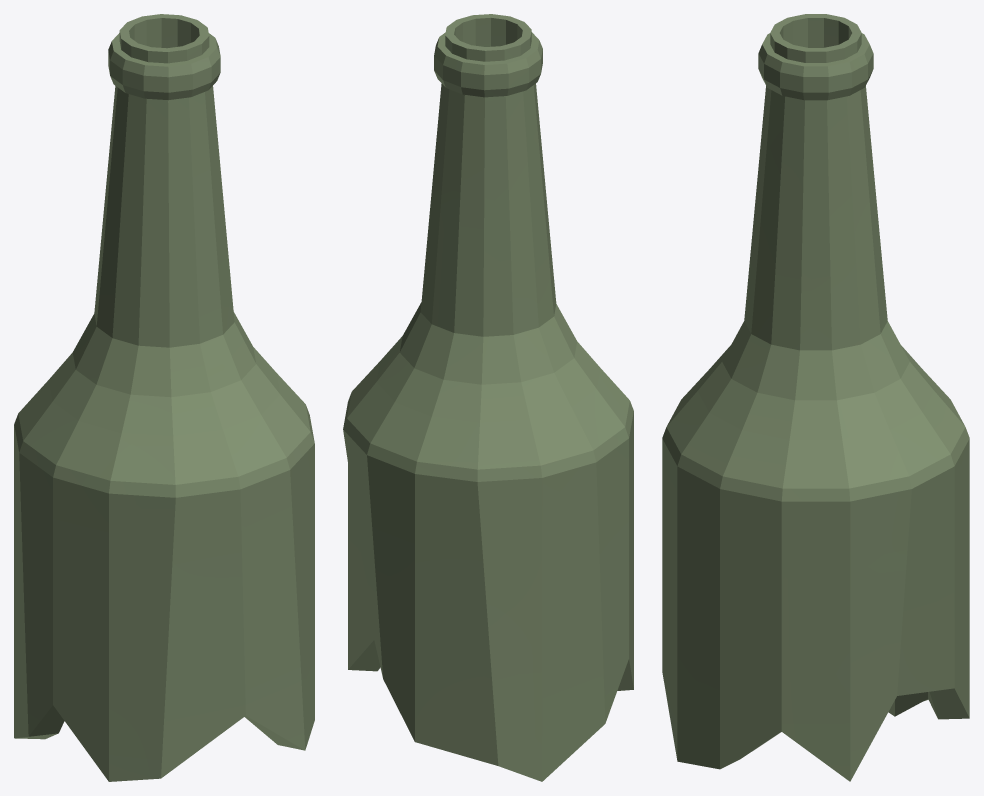
Rendered from bottle_1_destroeyd.glb.
3 views of the same model, side by side, from view 1: azimuth 30°, elevation 25°; view 2: azimuth 150°, elevation 25°; view 3: azimuth 270°, elevation 25° (orthographic). The views are drawn at different scales.
Visible parts, largest first — view 1: bottle_1_destroeyd; view 2: bottle_1_destroeyd; view 3: bottle_1_destroeyd.
Part boxes in pixels (bbox=[...]): bottle_1_destroeyd: bbox=[14, 14, 314, 781]; bottle_1_destroeyd: bbox=[343, 14, 633, 781]; bottle_1_destroeyd: bbox=[662, 14, 969, 781].
Size of the model in its own units: 0.0667 by 0.1775 by 0.0684.
Materials: 1 (1 with a texture image).
